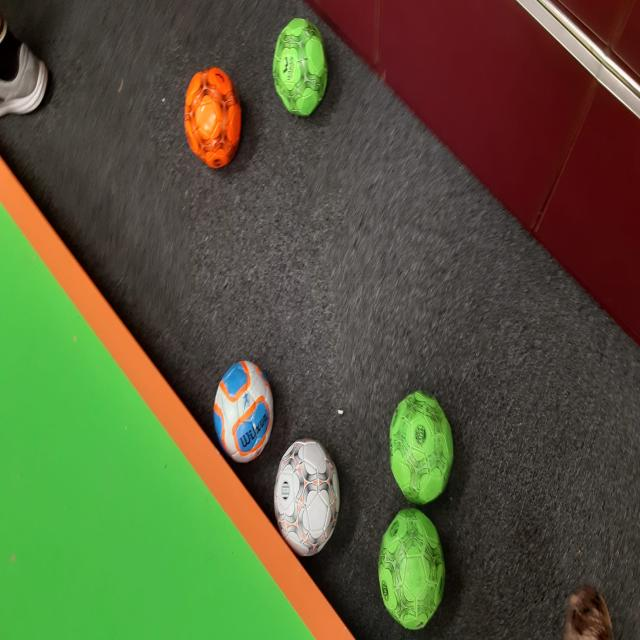ball: (378, 508, 447, 632), (274, 439, 339, 557), (389, 389, 454, 506), (214, 358, 273, 462), (184, 68, 244, 167), (272, 17, 330, 119)
